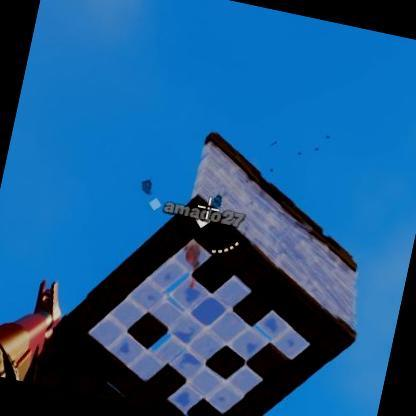person: (180, 236, 209, 280)
